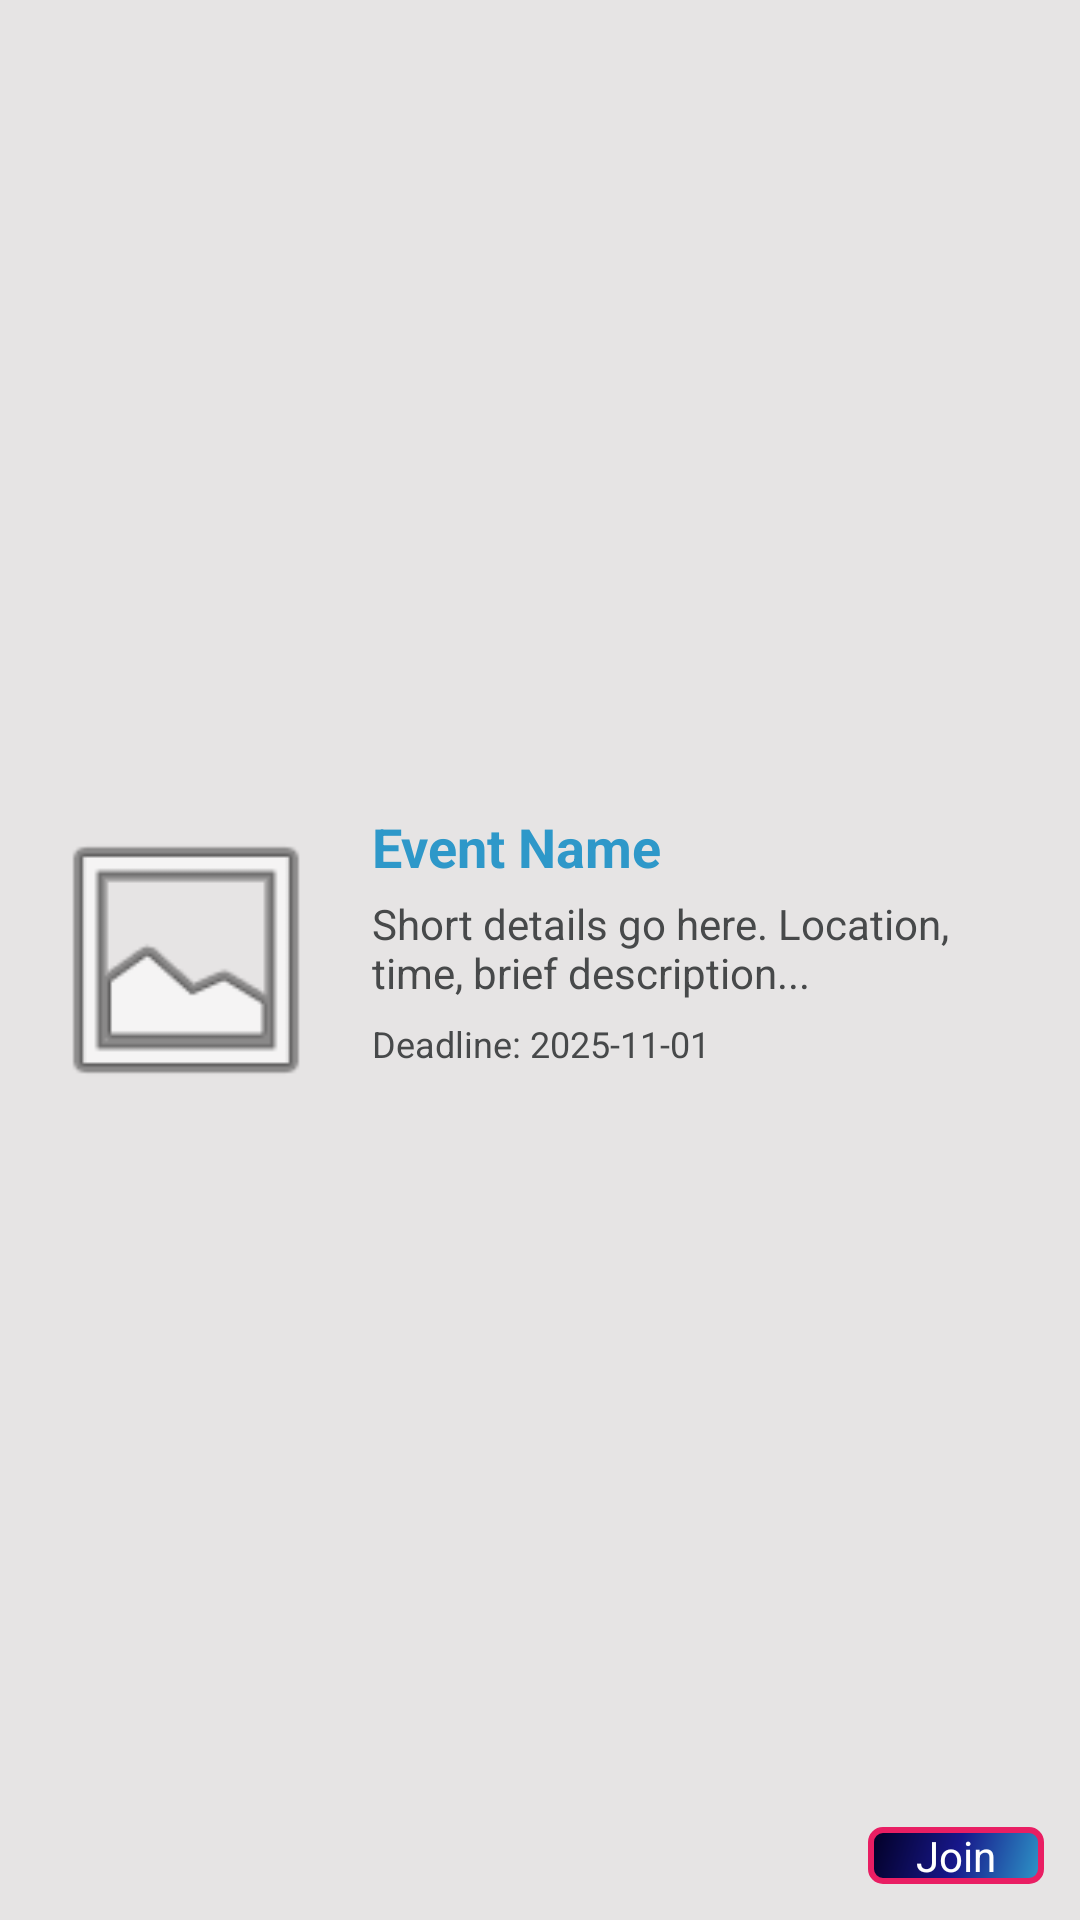

Locate icon controls on the screen. Image size 1080×1920, boxes as (x1, y1, x2, y2).
gallery: (72, 846, 300, 1074)
